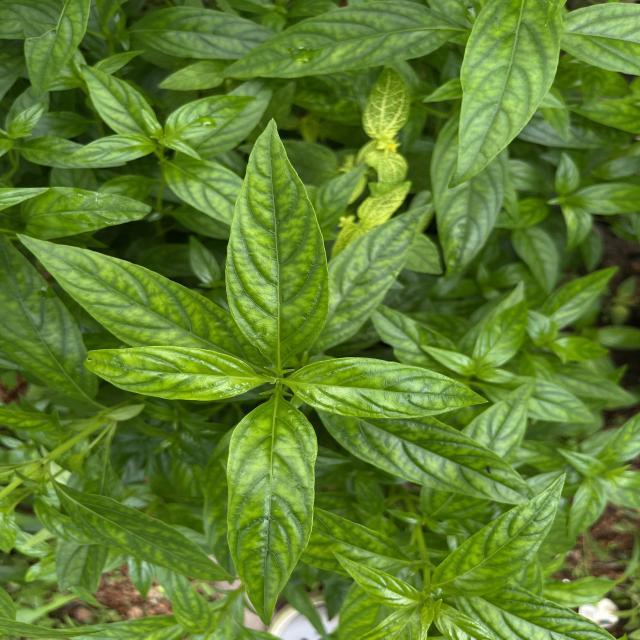Andrographis paniculata: (222, 115, 332, 366), (9, 232, 229, 350), (445, 0, 568, 192), (223, 396, 319, 628), (320, 409, 536, 506), (216, 2, 469, 82), (51, 478, 239, 584), (430, 469, 571, 598), (324, 202, 436, 348), (284, 354, 492, 421), (431, 110, 512, 278), (84, 343, 258, 401), (130, 4, 272, 62), (24, 183, 152, 240), (74, 61, 148, 136), (164, 92, 263, 140), (472, 300, 528, 370)
